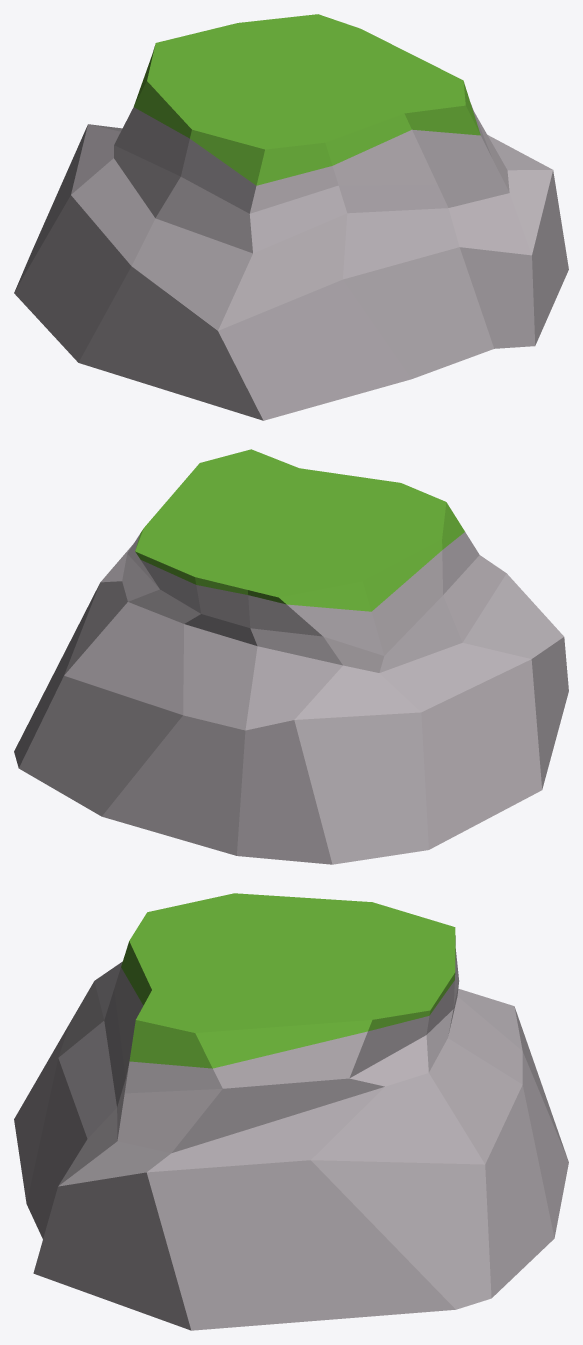
The model's file is Mountain.fbx.
3 views of the same model, one above another, from view 1: azimuth 30°, elevation 25°; view 2: azimuth 150°, elevation 25°; view 3: azimuth 270°, elevation 25° (orthographic). The views are drawn at different scales.
Parts seen in each view (by area): view 1: Plane; view 2: Plane; view 3: Plane.
Boxes of the visible parts, x1,y1,x2,y2 form: Plane: (14, 14, 568, 420); Plane: (14, 449, 568, 864); Plane: (14, 893, 568, 1330).
Bounding box in the file's own units: 173405 × 362669 × 394482.
